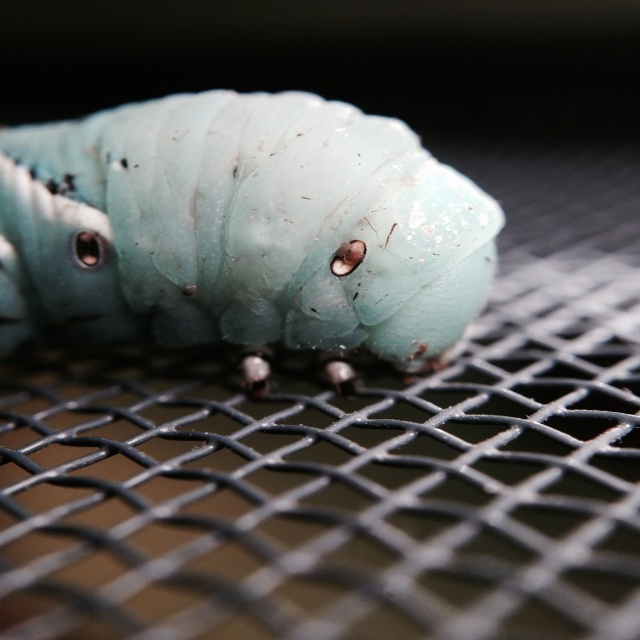Caterpillar: (0, 87, 505, 385)
